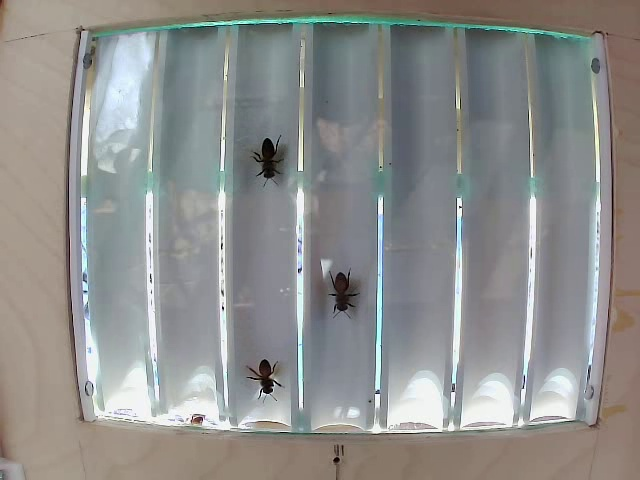bee: (246, 113, 286, 193), (319, 265, 371, 324), (238, 340, 283, 398)
